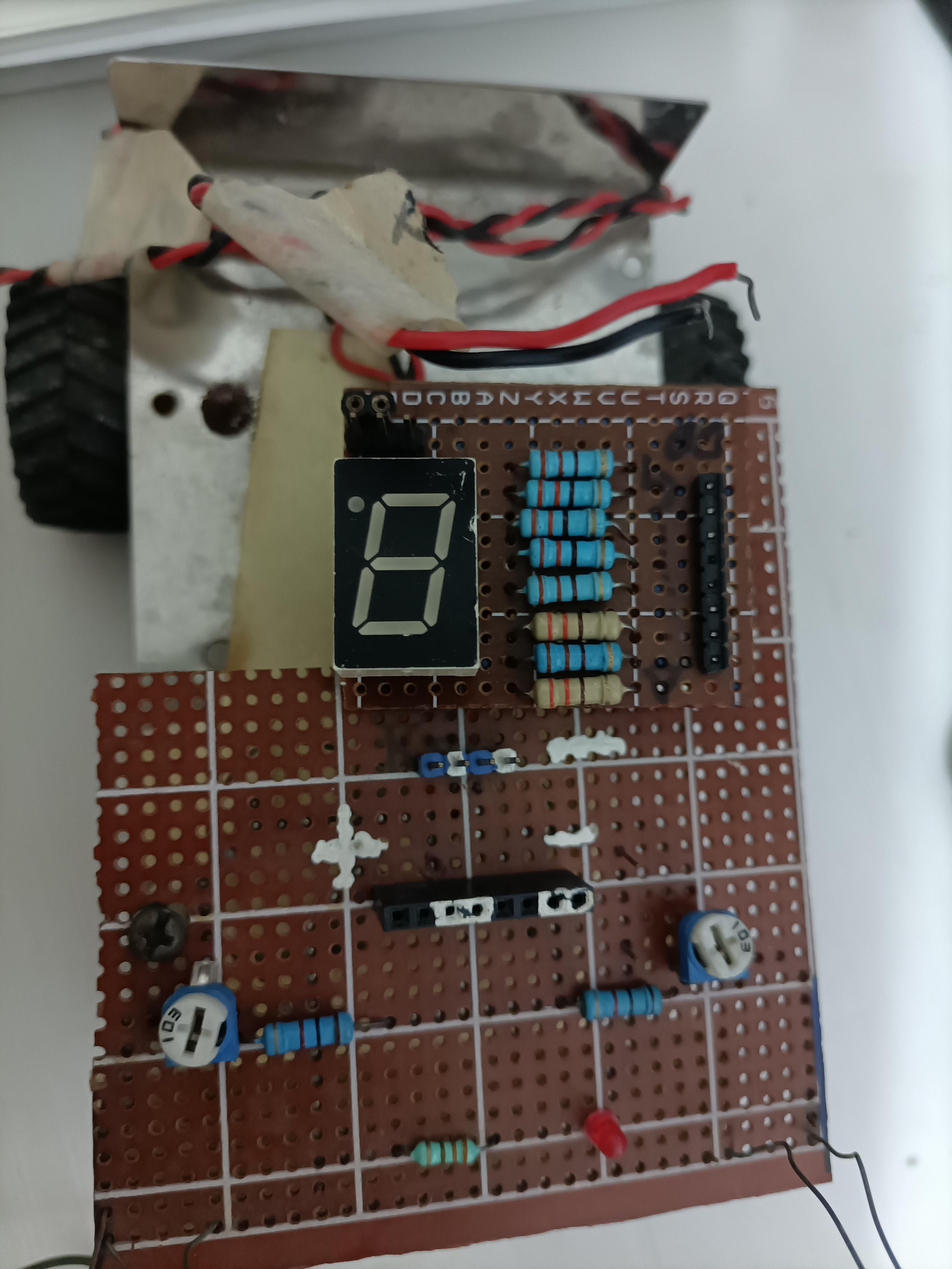LED: (583, 1103, 629, 1159)
Resistencia: (254, 1022, 371, 1060), (578, 984, 670, 1024), (529, 639, 629, 675), (407, 1130, 491, 1172), (523, 608, 629, 641), (526, 678, 632, 709), (520, 446, 616, 480), (519, 537, 622, 568), (519, 570, 617, 602), (519, 507, 608, 537), (522, 479, 614, 508)
